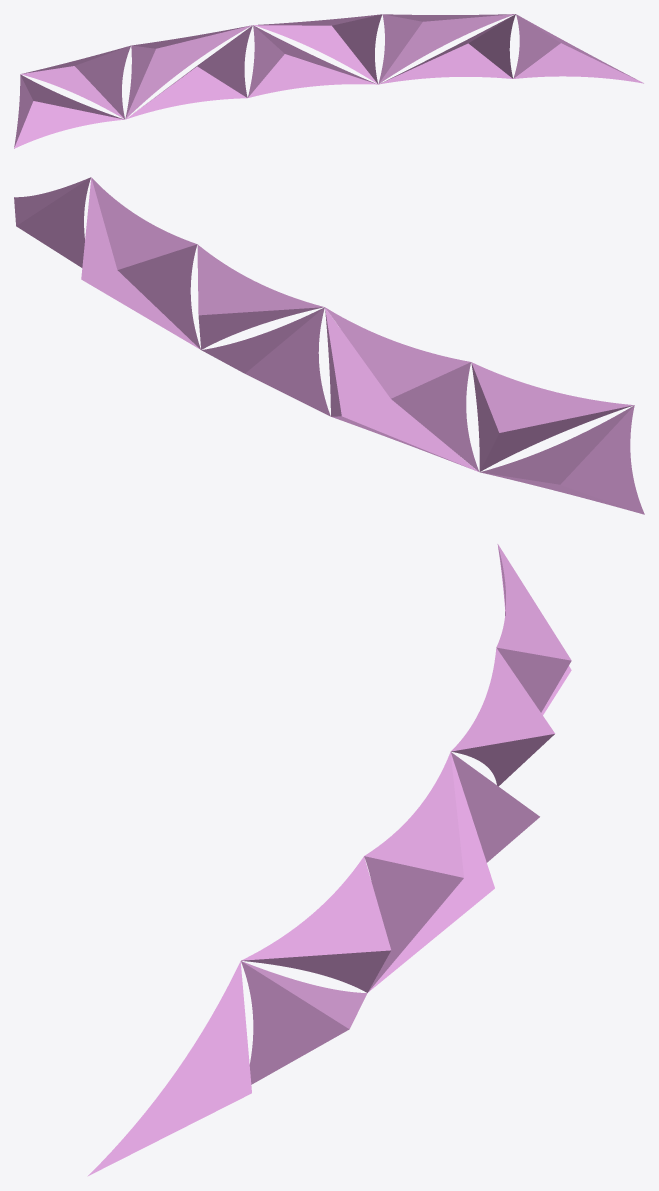
The model's file is TYPE30-2.glb.
3 views of the same model, one above another, from view 1: azimuth 30°, elevation 25°; view 2: azimuth 150°, elevation 25°; view 3: azimuth 270°, elevation 25° (orthographic). The views are drawn at different scales.
Parts seen in each view (by area): view 1: TYPE30-2 (×26); view 2: TYPE30-2 (×19); view 3: TYPE30-2 (×13).
Boxes of the visible parts, left/top/right/bottom form: TYPE30-2 (×26): left=14, top=14, right=643, bottom=148; TYPE30-2 (×19): left=14, top=177, right=644, bottom=514; TYPE30-2 (×13): left=87, top=544, right=571, bottom=1176.
Bounding box in the file's own units: 24.81 × 3.45 × 9.85.
